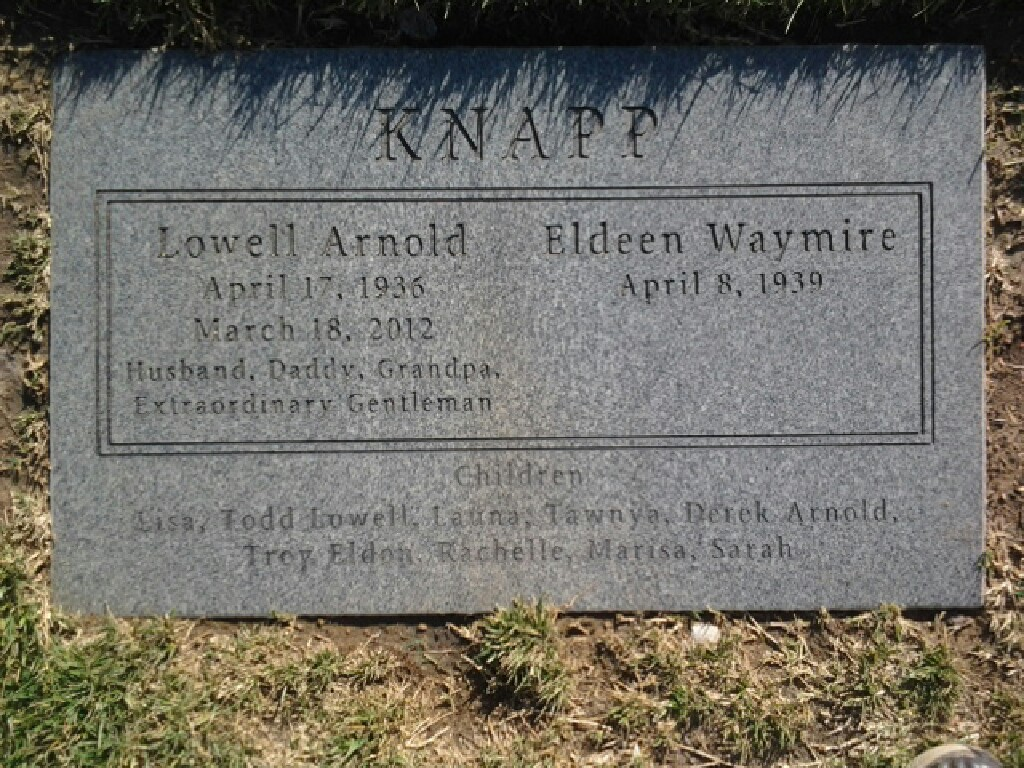flat: (39, 4, 994, 627)
